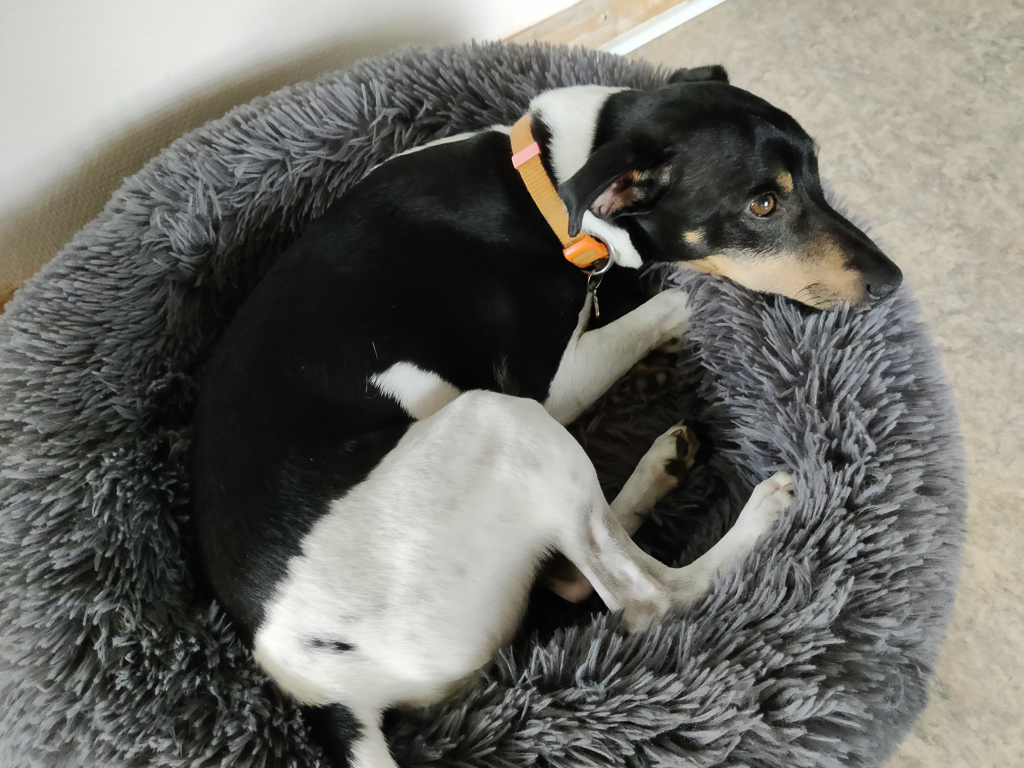Dog: (118, 60, 922, 768)
